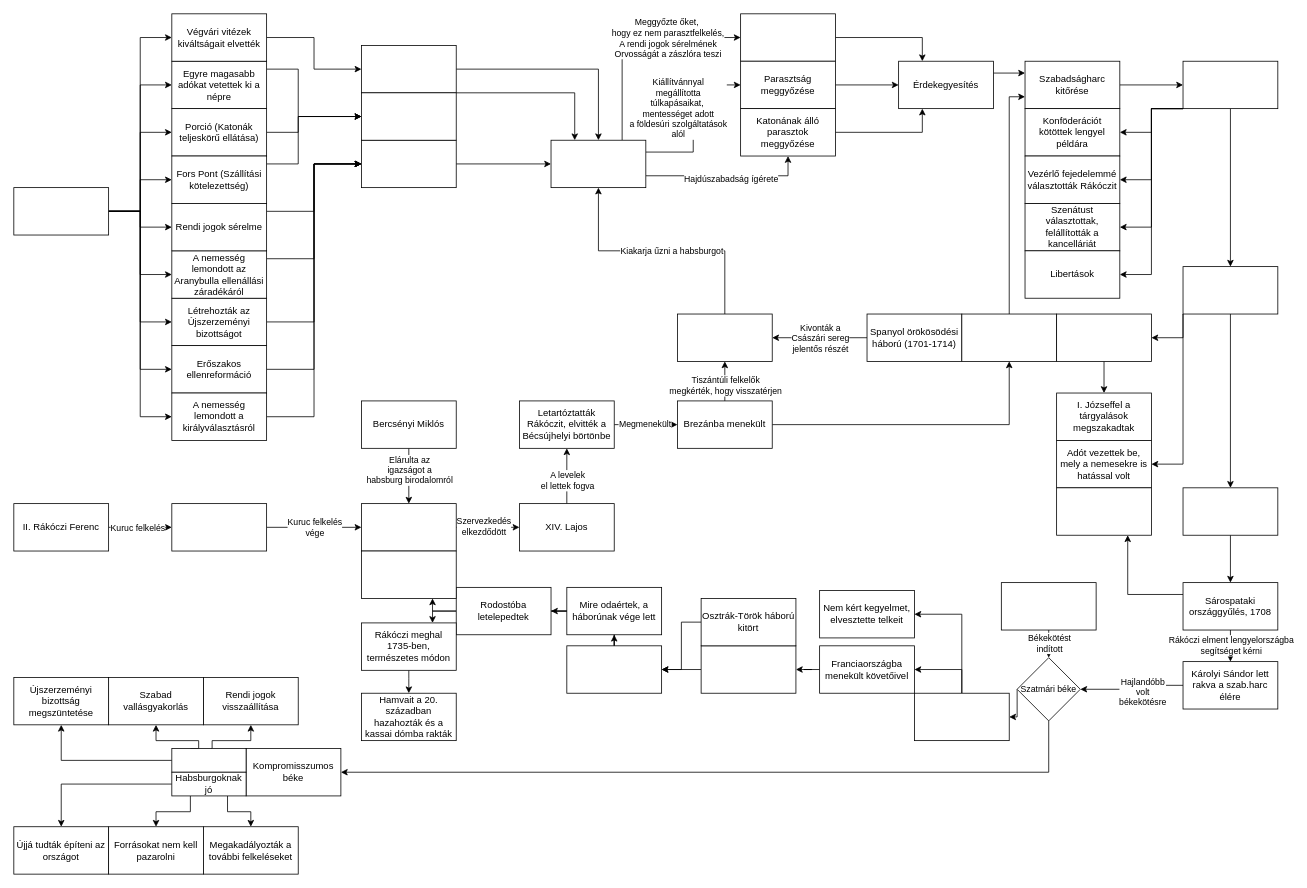
The diagram is 1307 pixels wide and 888 high, and some of its shapes have lost their labels. Each missing label, with the box of its shape:
A habsburgok leverték a törököket: (13, 187, 109, 235)
A jobbágyak idegesek: (361, 92, 456, 140)
A nemesek idegesek: (361, 139, 456, 188)
A végvári vitézek idegesek: (361, 45, 456, 93)
Az egész nép ideges a habsburgra: (550, 139, 646, 188)
Bécsbe menekül: (171, 503, 267, 551)
Habsburg trónfosztás ötlete: (1056, 313, 1151, 361)
Hajdúszabadságot ígértek a jobbágyaknak: (1056, 487, 1151, 535)
Hazatér: (361, 503, 456, 551)
Magyaroknak jó: (171, 748, 246, 772)
Mikes Kelemen írt életükről: (361, 550, 456, 598)
Nemesség meggyőzése: (740, 13, 835, 61)
Pálffy János meg lett választva a tárgyalások újboli megindításával: (1001, 582, 1096, 630)
Rájöttek, nem akarnak a franciák a habsburokkal háborút: (700, 645, 796, 693)
Rákóczi Ferenc nem szerette ezt: (914, 692, 1009, 741)
Rákóczi visszatér: (677, 313, 772, 361)
Szécsényi országgyűlés, 1705: (1182, 60, 1278, 109)
Trencsén, 1708: (1182, 487, 1278, 535)
Törökországba indultak harcolni: (566, 645, 662, 693)
Vetési pátens (Brezán, 1703): (961, 313, 1057, 361)
Ónodi országgyűlés, 1707: (1182, 266, 1278, 314)
